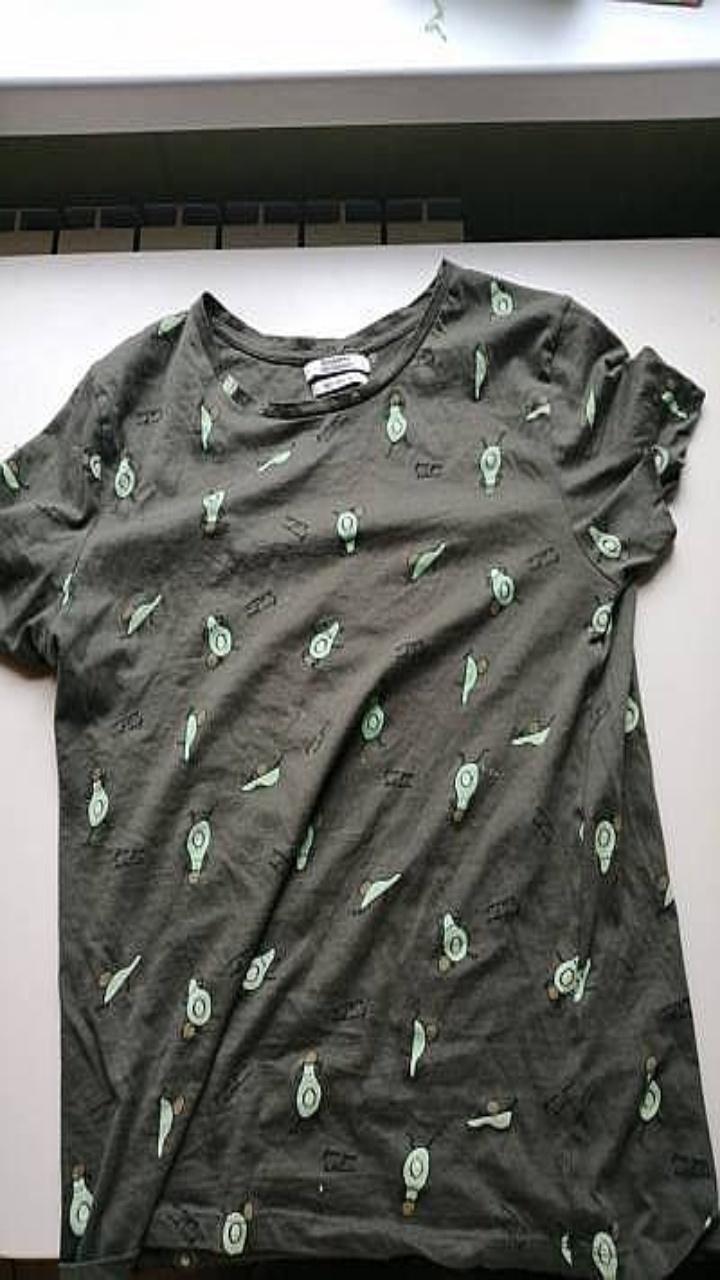T-Shirt: (0, 258, 719, 1279)
